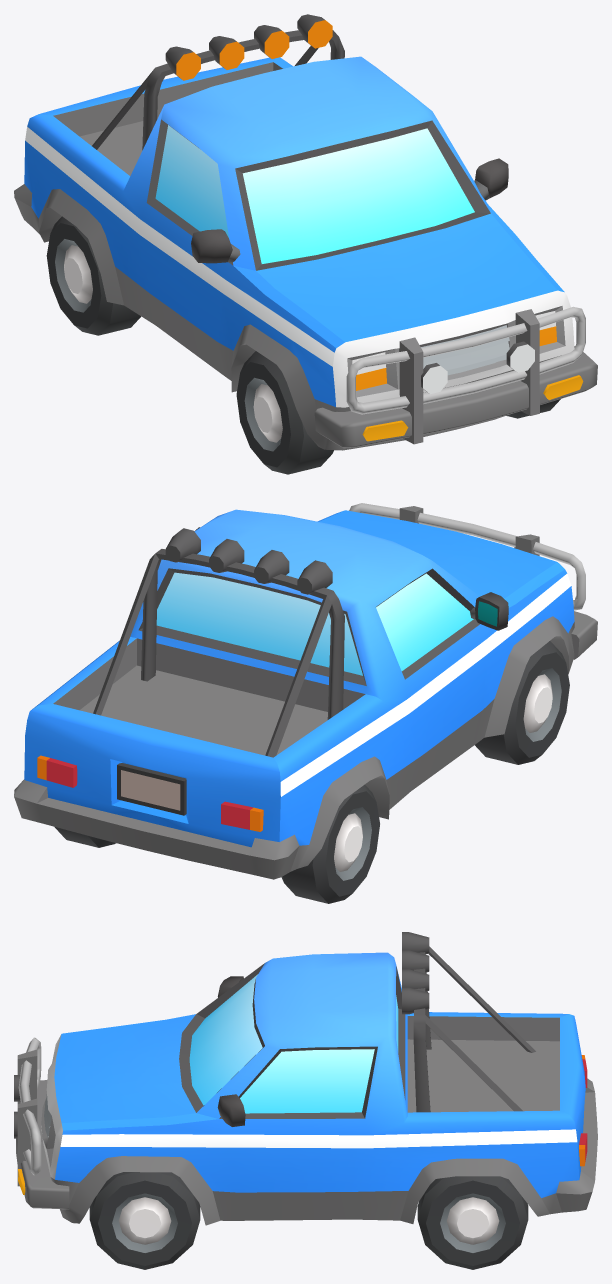
The model's file is Car_23.glb.
3 views of the same model, one above another, from view 1: azimuth 30°, elevation 25°; view 2: azimuth 150°, elevation 25°; view 3: azimuth 270°, elevation 25° (orthographic). The views are drawn at different scales.
Visible parts, largest first — view 1: Car_23, Wheel_097, Wheel_098; view 2: Car_23, Wheel_098, Wheel_097; view 3: Car_23, Wheel_099, Wheel_100.
Part boxes in pixels (x1,y1,x2,y2): Car_23: (14,14,597,450); Wheel_097: (236,351,333,474); Wheel_098: (46,216,140,335); Car_23: (14,503,597,879); Wheel_098: (281,784,379,903); Wheel_097: (475,641,569,764); Car_23: (14,932,597,1225); Wheel_099: (89,1172,200,1269); Wheel_100: (417,1176,528,1269).
Bounding box in the file's own units: 2.38 × 2.14 × 4.47.
2 materials, 2 textured.
